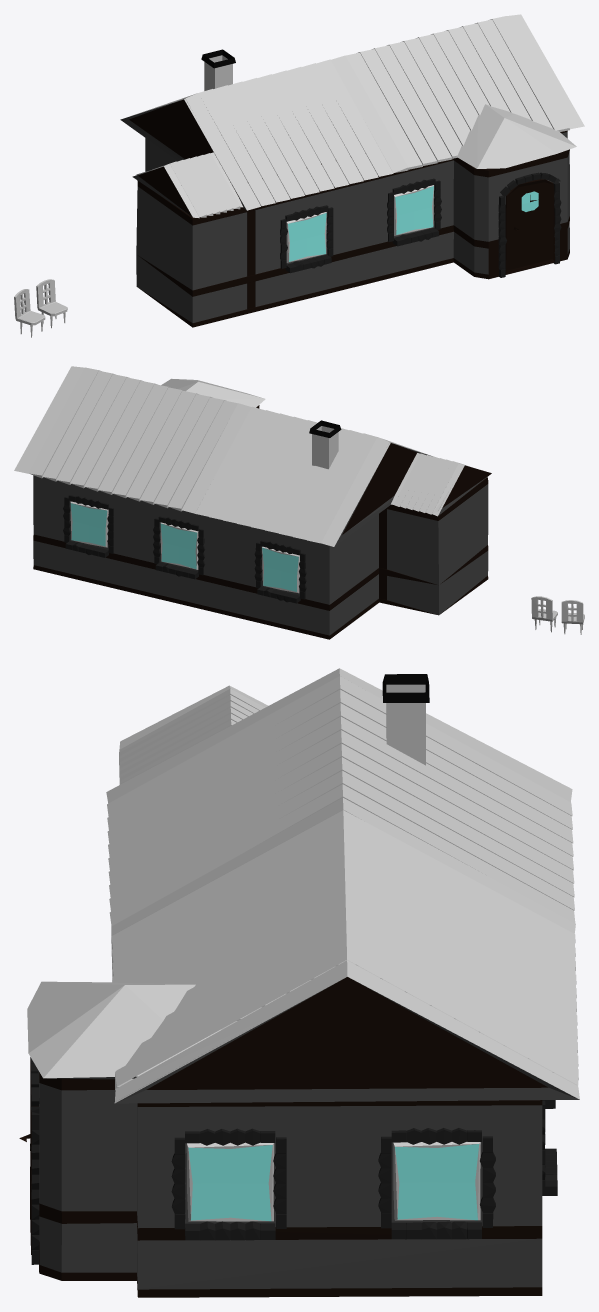
The model's file is house.obj.
3 views of the same model, one above another, from view 1: azimuth 30°, elevation 25°; view 2: azimuth 150°, elevation 25°; view 3: azimuth 270°, elevation 25° (orthographic). The views are drawn at different scales.
Parts seen in each view (by area): view 1: Chears; view 2: Chears; view 3: Chears.
Boxes of the visible parts, box(x1,y1,x2,y2) form: Chears: box(14, 14, 584, 337); Chears: box(14, 366, 584, 639); Chears: box(19, 668, 579, 1297).
Size of the model in its own units: 45.51 by 15.88 by 22.35.
